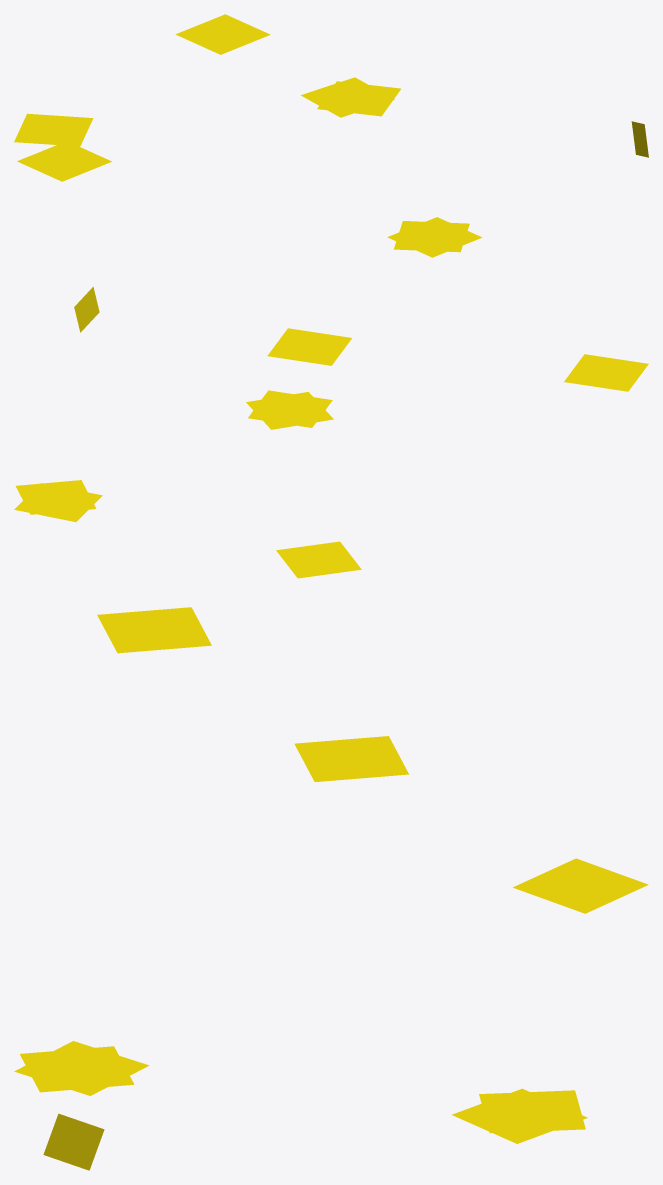
File: Decal.fbx
The picture shows the model from 3 angles, top to bottom: view 1: azimuth 30°, elevation 25°; view 2: azimuth 150°, elevation 25°; view 3: azimuth 270°, elevation 25°; orthographic projection. The views are drawn at different scales.
Visible parts, largest first — view 1: Decal; view 2: Decal; view 3: Decal.
Part boxes in pixels (x1=…): Decal: x1=14, y1=14, x2=648, y2=257; Decal: x1=14, y1=286, x2=648, y2=578; Decal: x1=14, y1=607, x2=648, y2=1170.
Size of the model in its own units: 1463 by 388 by 963.
